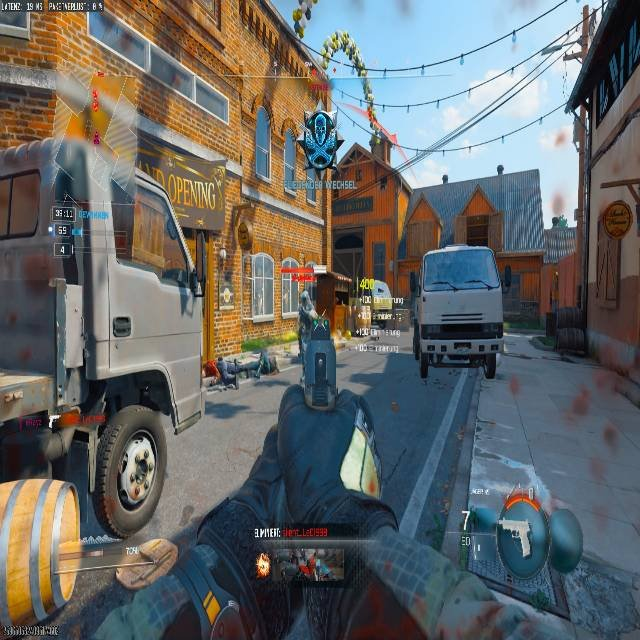player: (296, 291, 315, 327)
